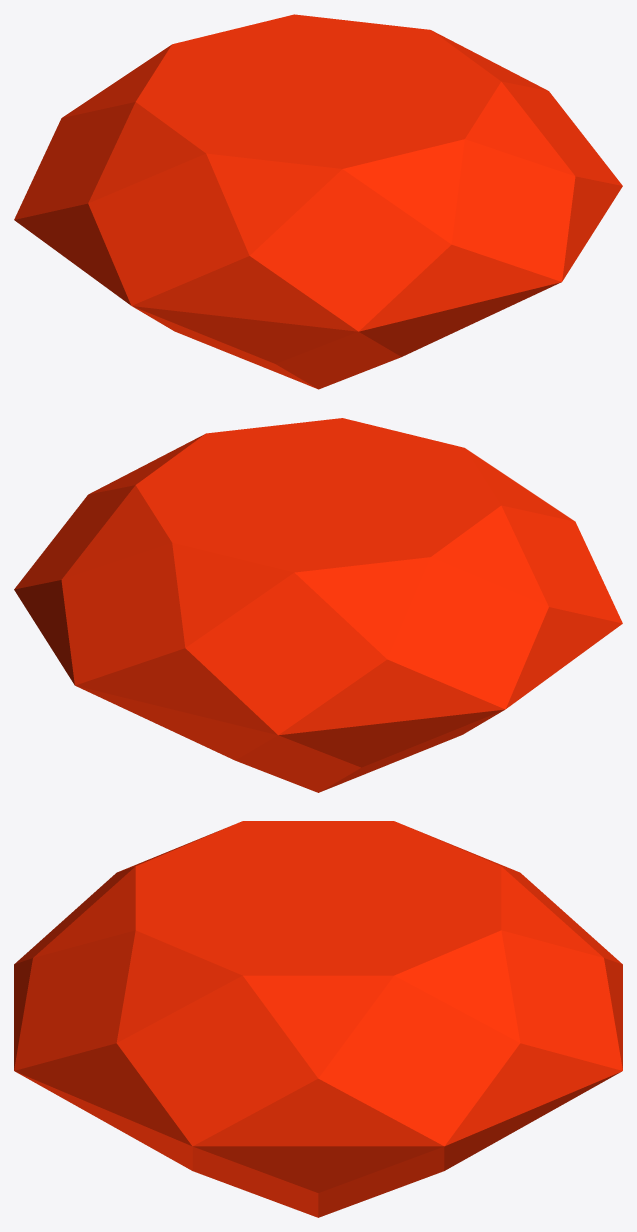
Rendered from ruby.gltf.
The picture shows the model from 3 angles, top to bottom: view 1: azimuth 30°, elevation 25°; view 2: azimuth 150°, elevation 25°; view 3: azimuth 270°, elevation 25°; orthographic projection. The views are drawn at different scales.
Visible parts, largest first — view 1: Ruby; view 2: Ruby; view 3: Ruby.
Boxes of the visible parts, x1,y1,x2,y2 form: Ruby: (14, 14, 622, 389); Ruby: (14, 418, 622, 792); Ruby: (14, 821, 622, 1217).
Size of the model in its own units: 1.85 by 1.07 by 1.85.
